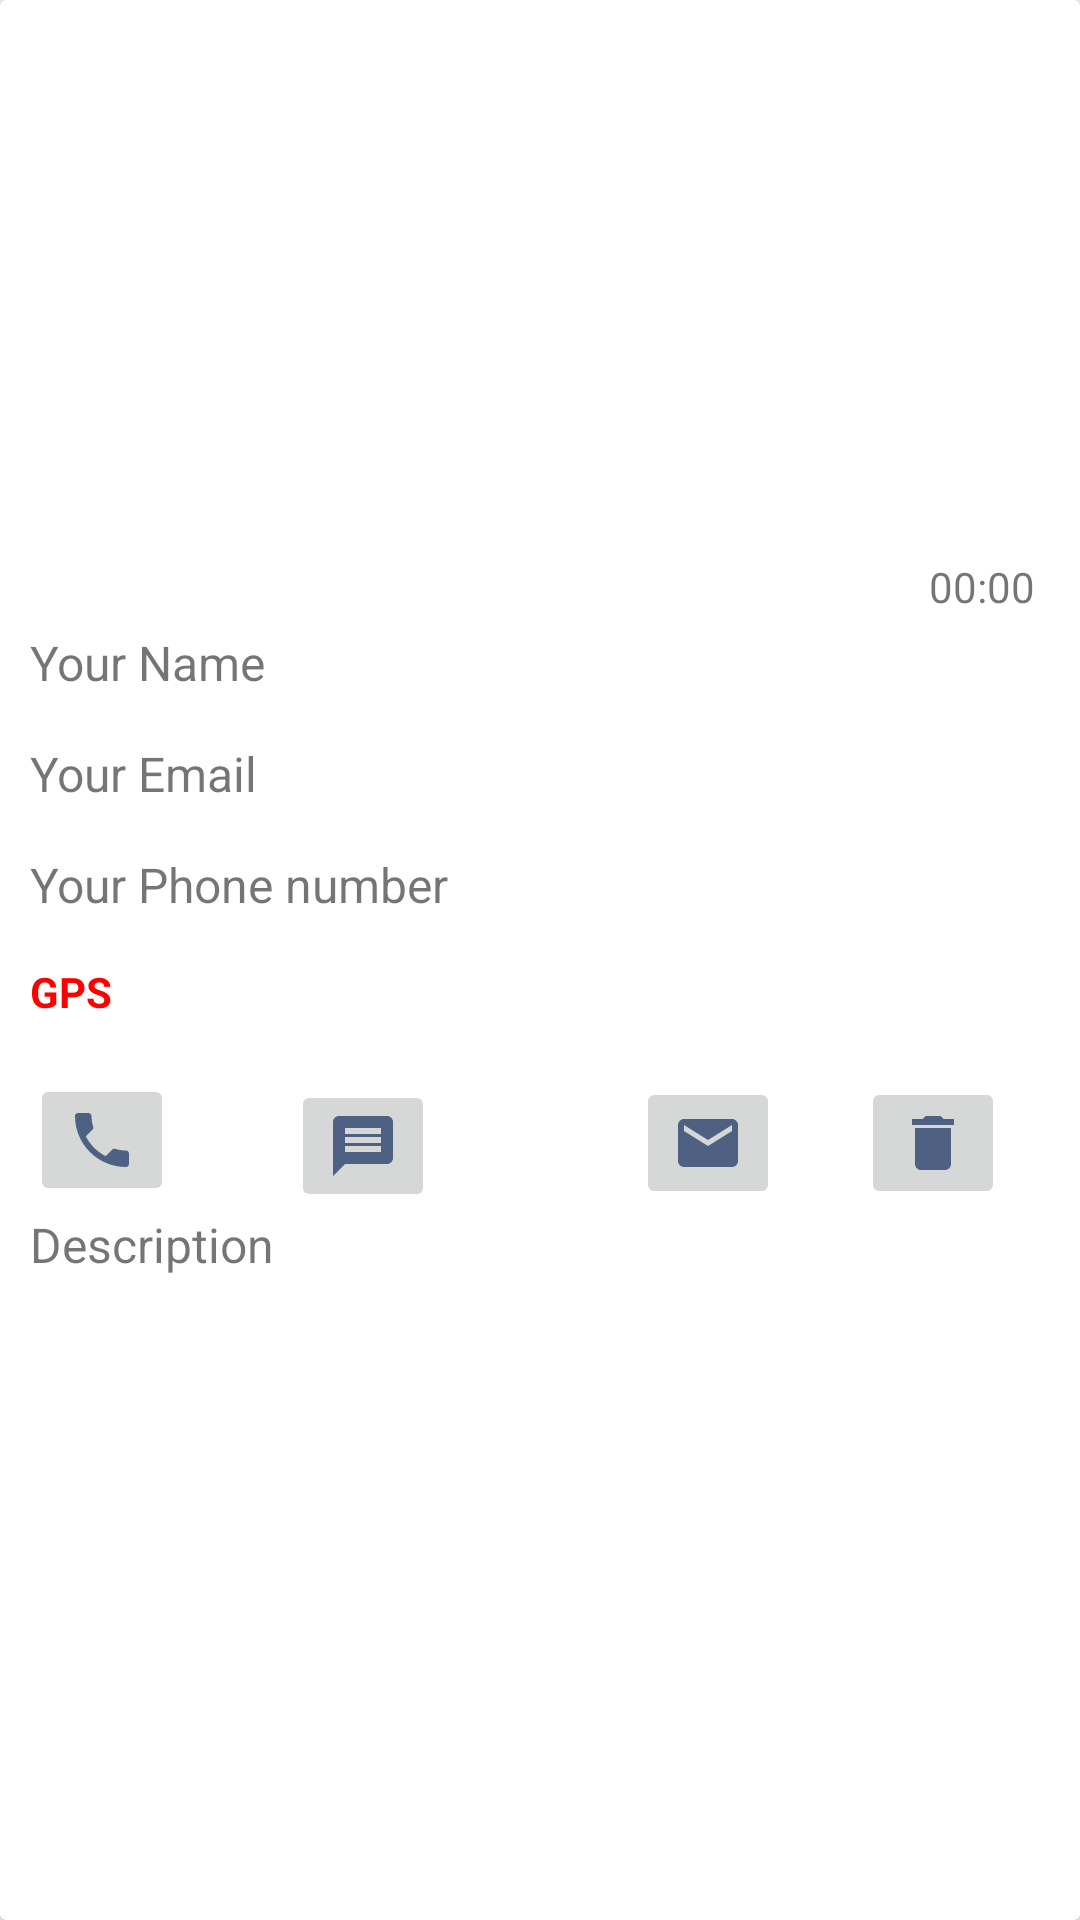

Where icons sit on this 1080px×1920px app screen, as box=[x1, y1, x2, y2]:
call: box=[42, 1092, 162, 1188]
delete: box=[873, 1095, 993, 1191]
email: box=[648, 1095, 768, 1191]
message: box=[303, 1098, 423, 1194]
